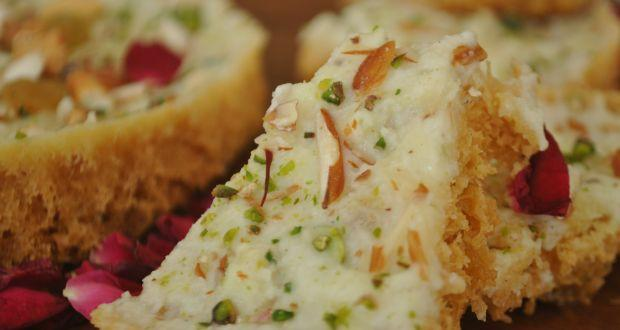Ghevar: (92, 27, 550, 330), (296, 2, 620, 306), (0, 0, 267, 280)
